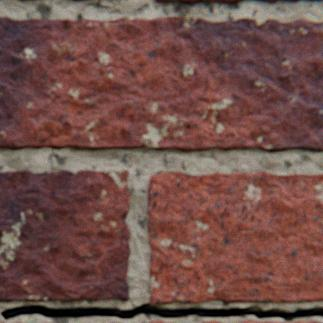brick: (0, 17, 322, 153), (147, 172, 322, 304), (0, 170, 129, 302), (153, 0, 322, 5), (240, 320, 282, 322), (63, 0, 93, 2), (18, 0, 37, 2), (292, 321, 320, 322), (203, 321, 220, 322), (149, 321, 164, 322)
crack: (0, 302, 322, 322)
